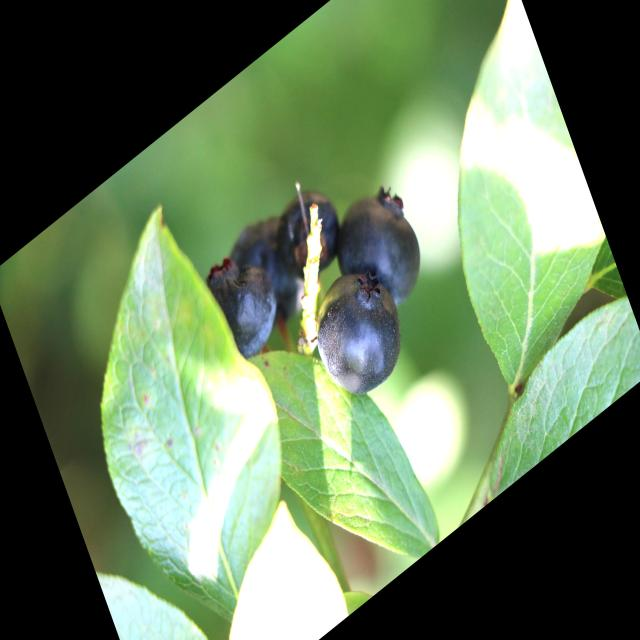blueberry: (299, 247, 416, 418), (328, 168, 434, 328), (225, 192, 317, 344), (193, 233, 288, 378), (270, 170, 355, 298)
